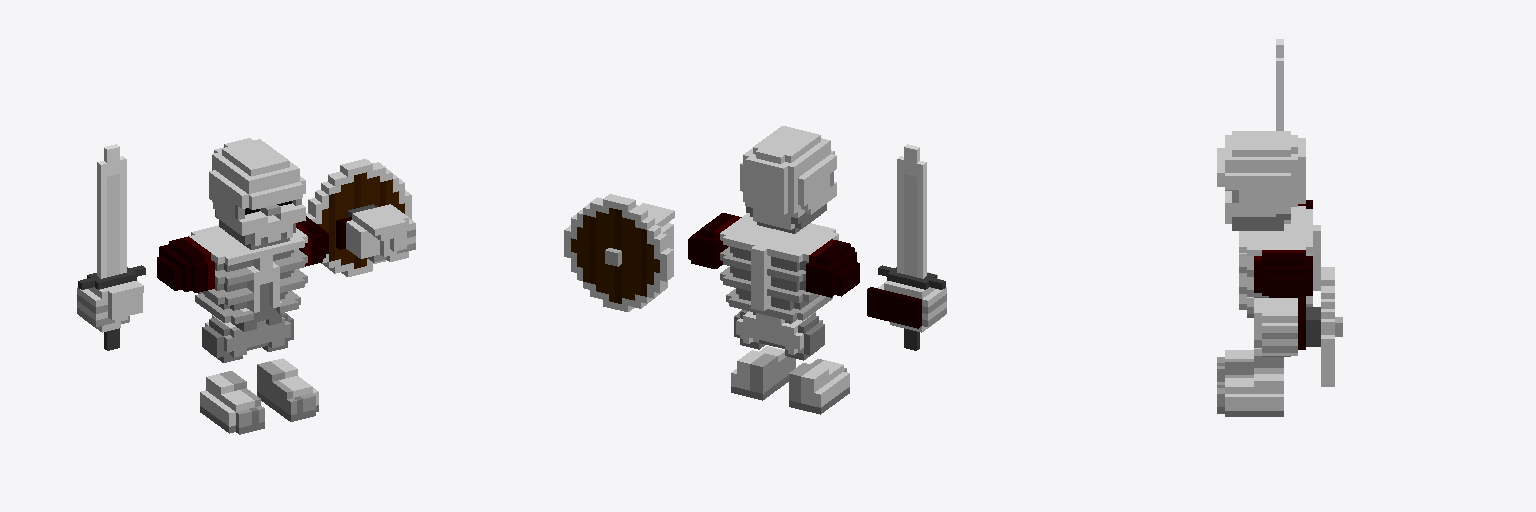
3 renders of one model, left to right at view 1: azimuth 30°, elevation 25°; view 2: azimuth 150°, elevation 25°; view 3: azimuth 270°, elevation 25°, orthographic.
Bounding box in the file's own units: 6.88 × 5.38 × 2.12.
1 materials, 1 textured.